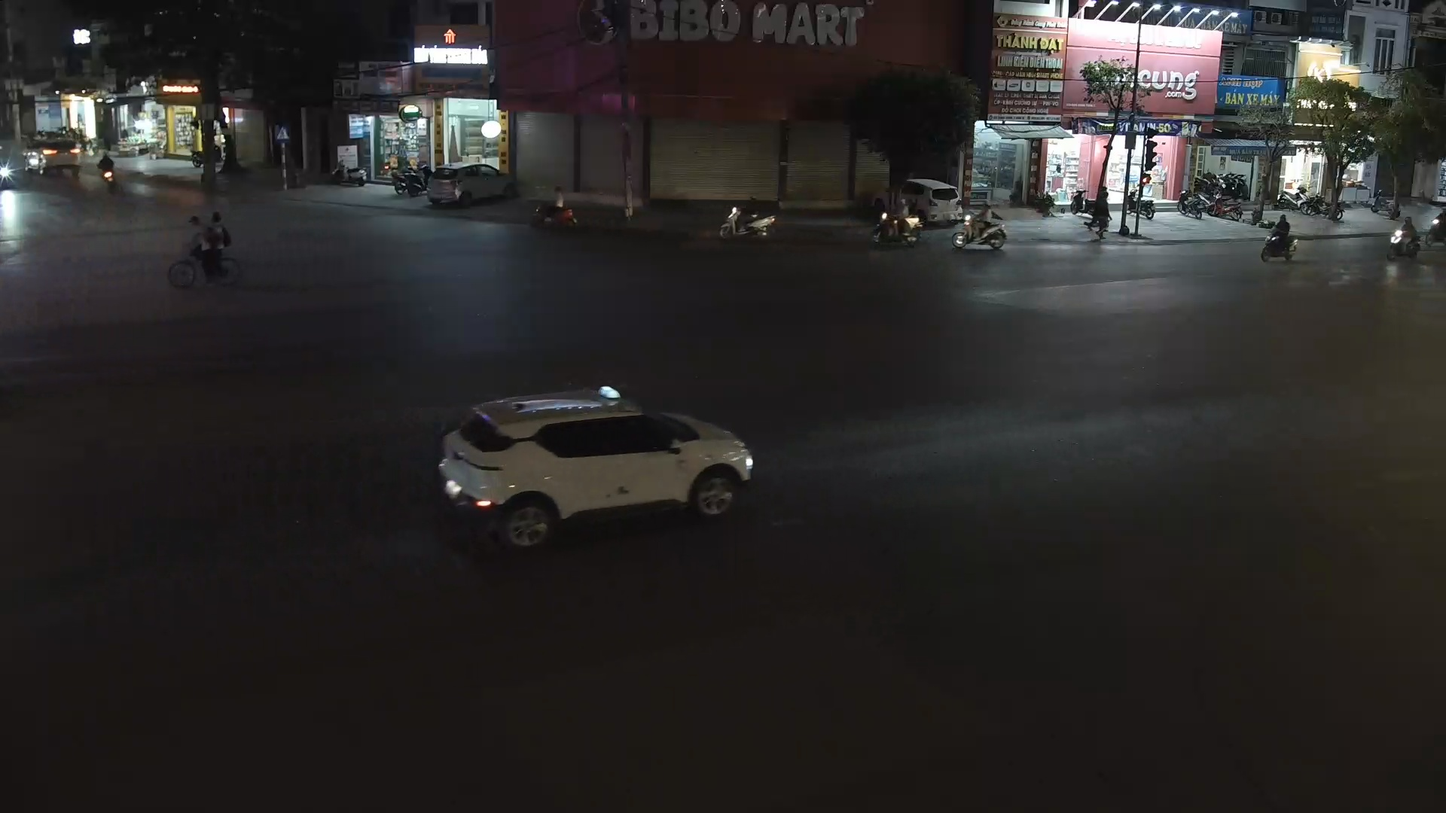car: (434, 382, 758, 548)
motorbike: (165, 205, 243, 290), (950, 194, 1009, 252), (1260, 215, 1298, 265)
